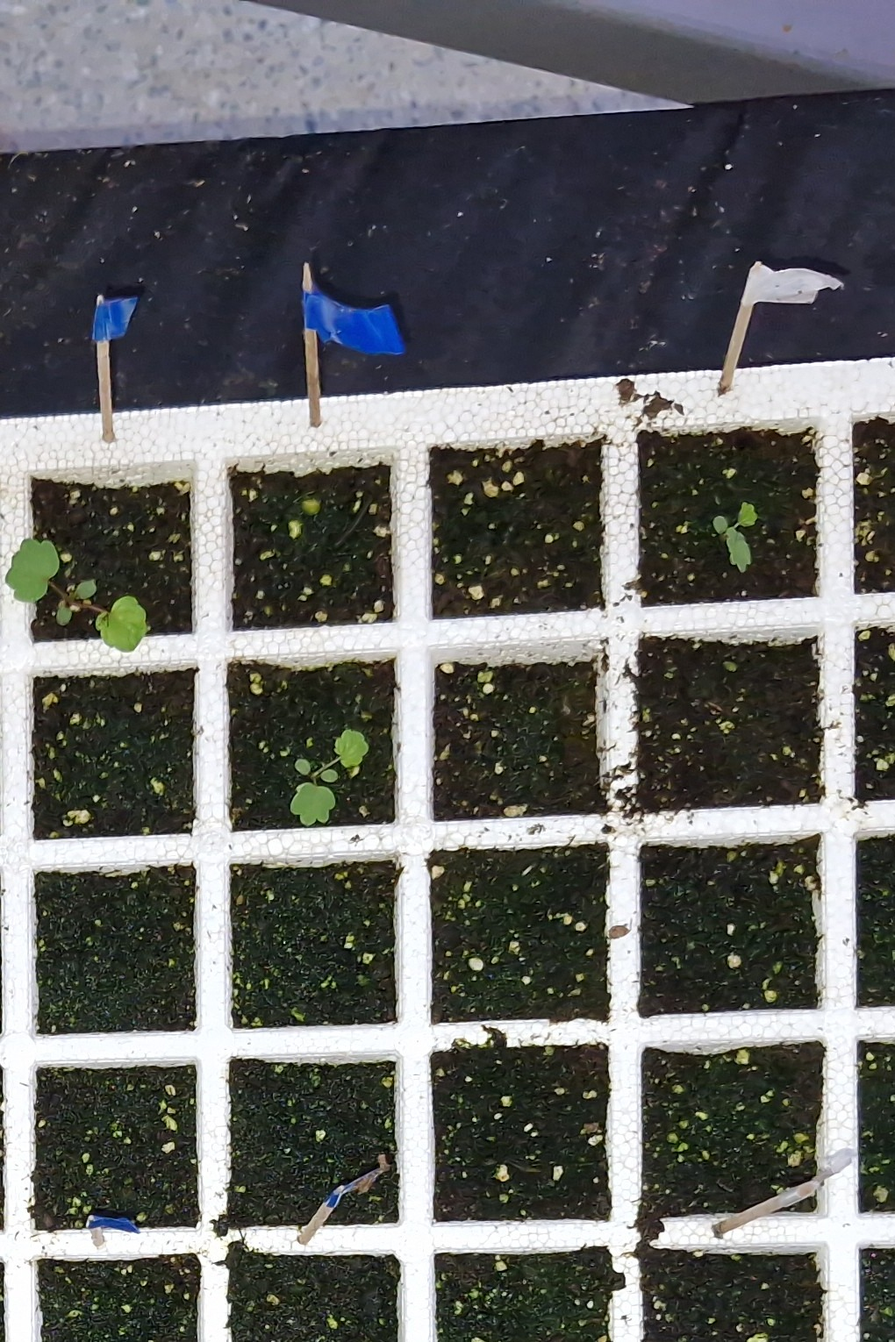Folha: (6, 540, 59, 602), (96, 596, 146, 651), (291, 782, 335, 825), (334, 729, 369, 767), (726, 528, 751, 572), (738, 501, 758, 527), (75, 579, 97, 599), (55, 608, 72, 625), (713, 516, 727, 534), (295, 760, 310, 775), (321, 769, 337, 783)
Germinacao: (7, 539, 147, 650), (291, 730, 368, 825), (713, 501, 758, 572)
